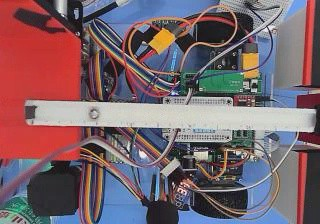ironball: (89, 108, 100, 118)
